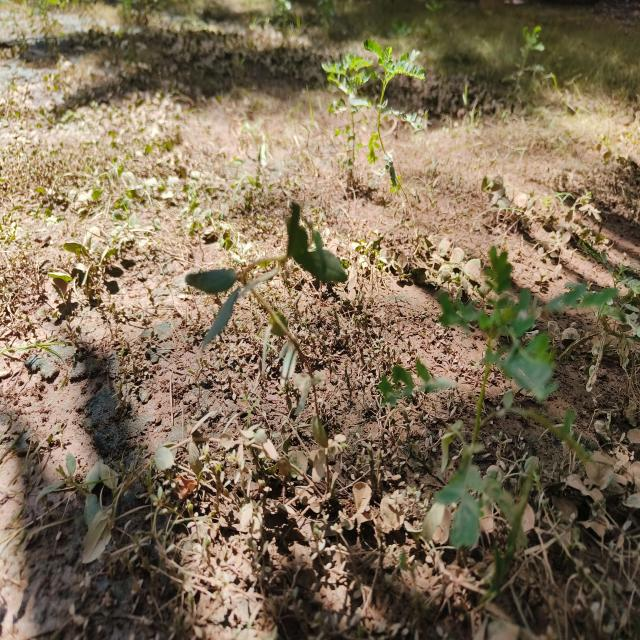weed: (431, 238, 625, 586)
